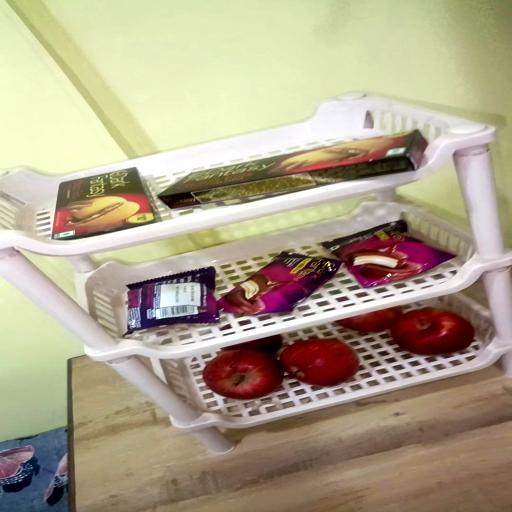Apple: (203, 350, 283, 400), (391, 308, 474, 355), (281, 339, 359, 386), (336, 306, 403, 333), (221, 335, 282, 354)
Choco Fills: (159, 129, 428, 209), (52, 167, 157, 240)
Choco Pie: (322, 219, 455, 287), (218, 251, 341, 315), (126, 267, 219, 335)
